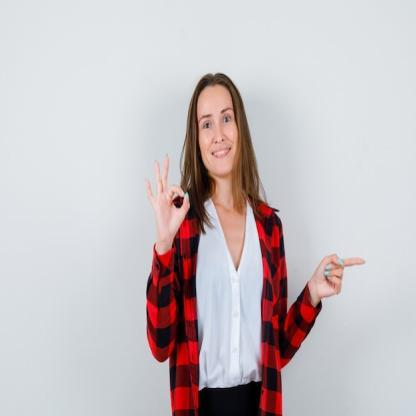ok: (142, 146, 191, 250)
